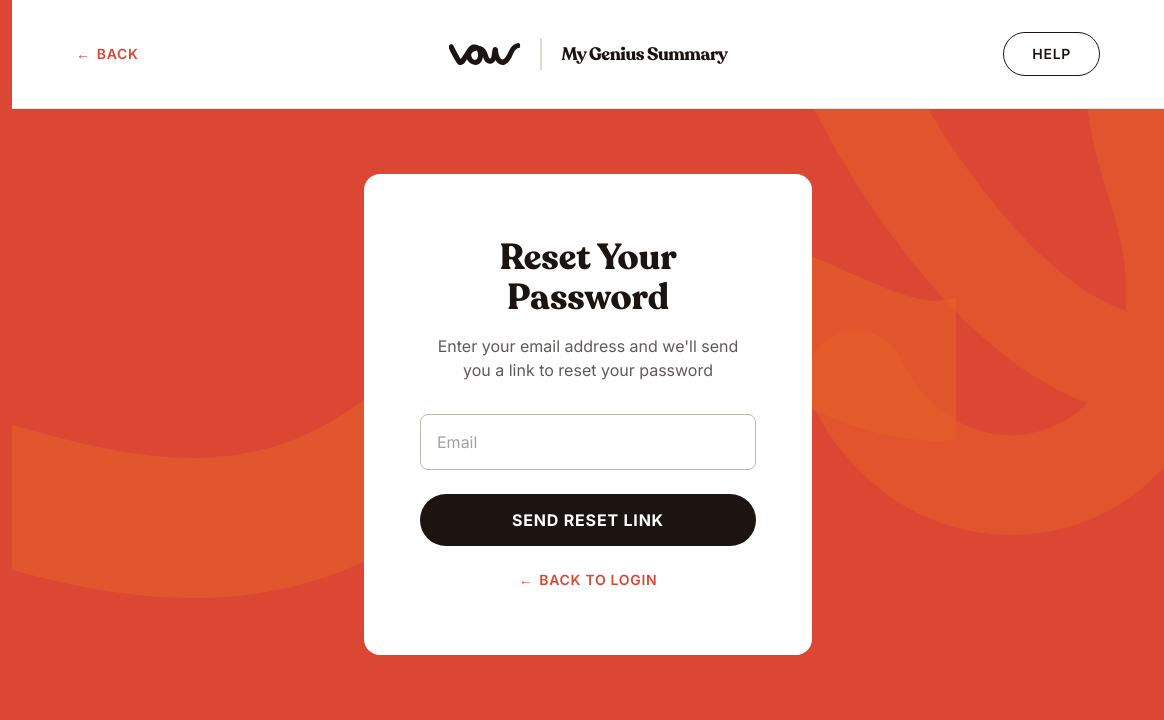
Scenario: ForgotPasswordPage › disables submit while sending
The width and height of the screenshot is (1164, 720).
Step 1. Type "busy@example.com" into the field labelled "Email" → (588, 442), box [420, 414, 756, 470]
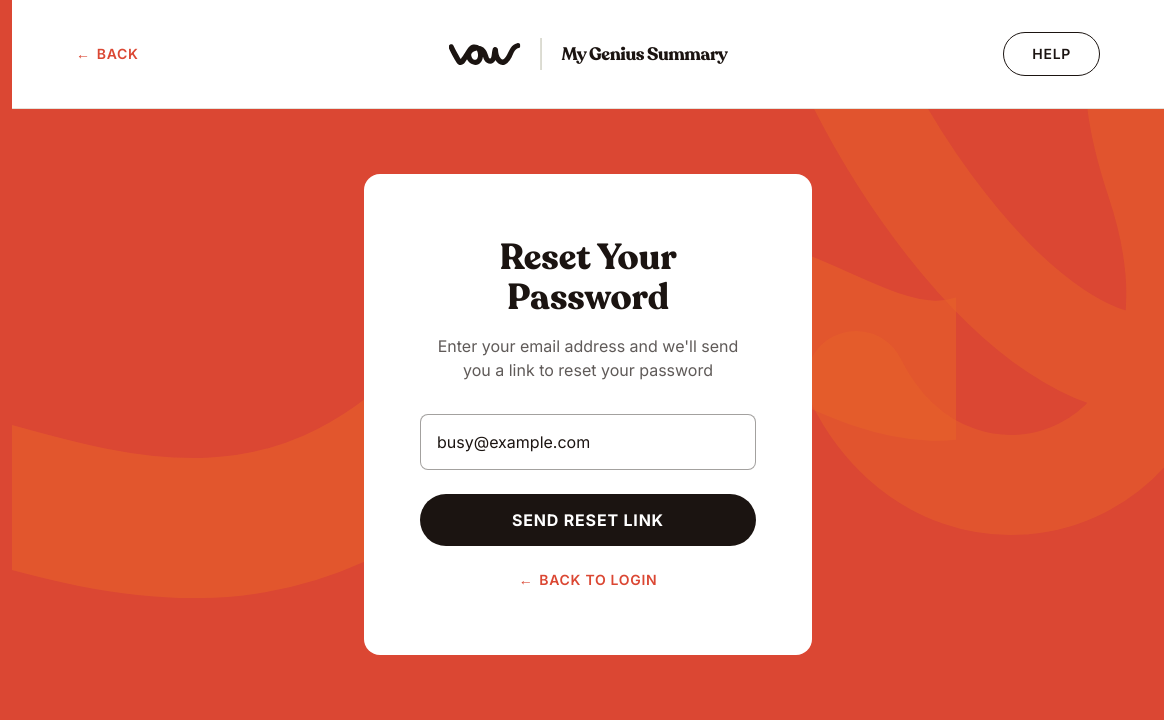
Step 2. Click the button "Send Reset Link" → (588, 520), box [420, 494, 756, 546]
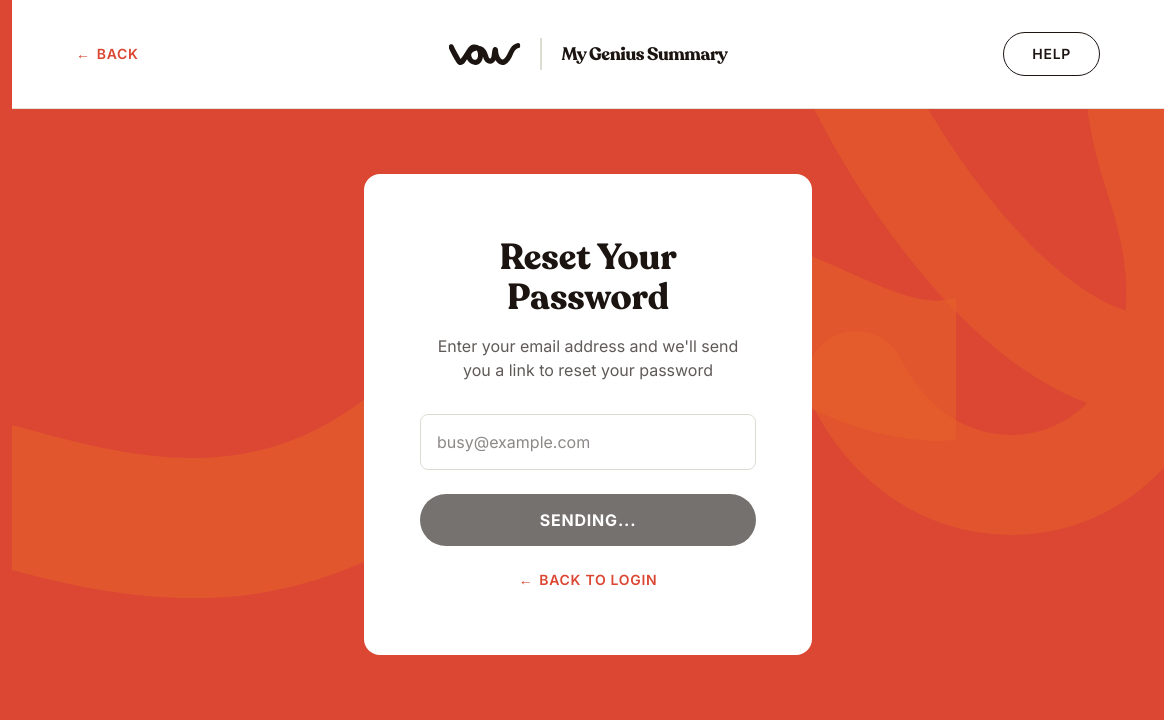
Now the button "Sending..." is disabled, box [420, 494, 756, 546]
